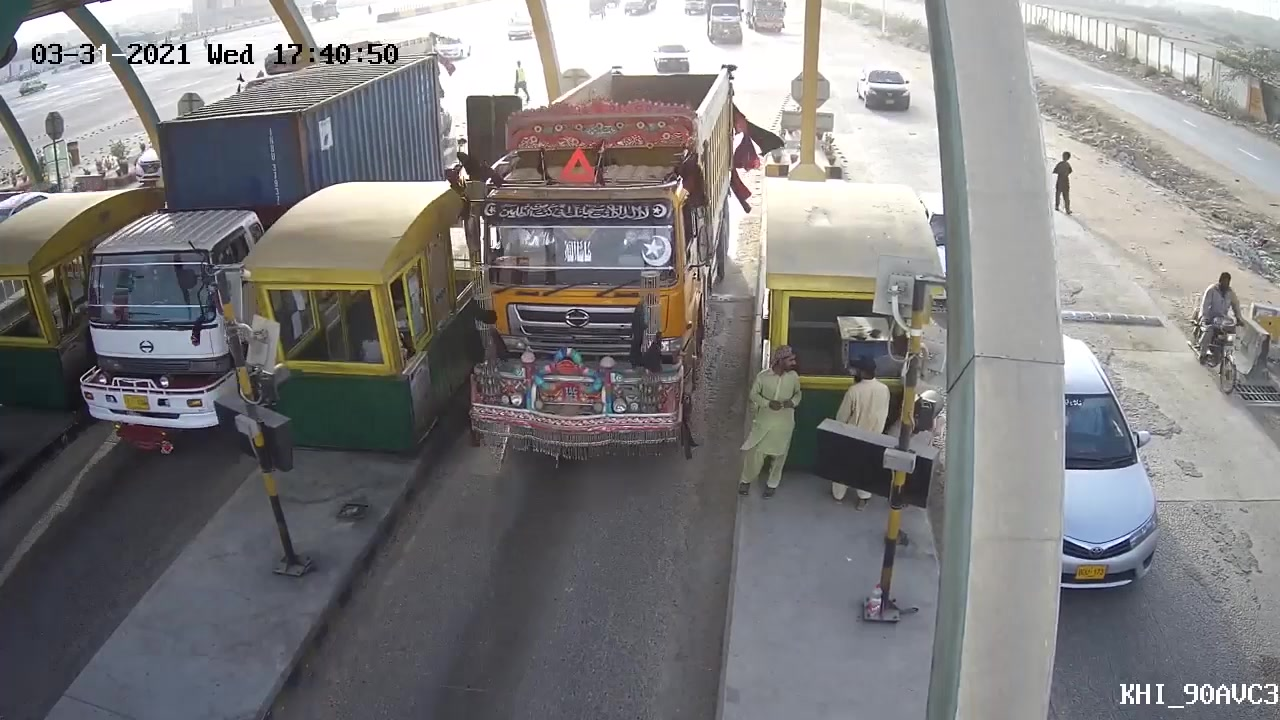F5: (439, 52, 764, 473)
